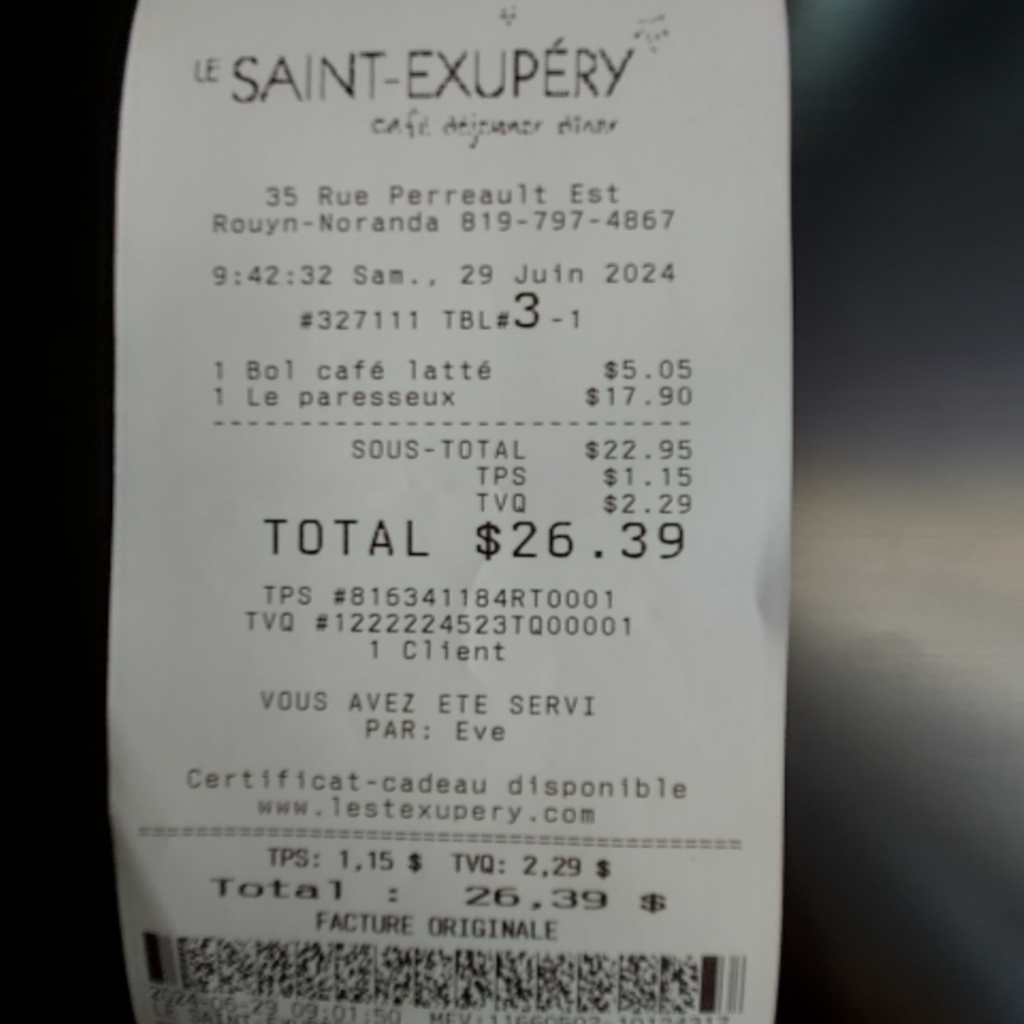recipt: (105, 0, 796, 1016)
